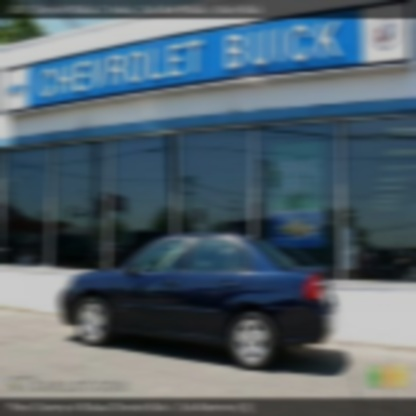Vehicle: (61, 233, 335, 371)
